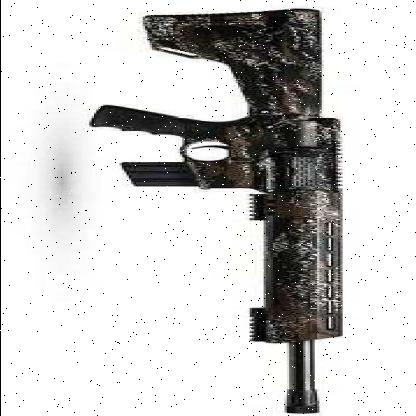rifle: (16, 2, 370, 413)
